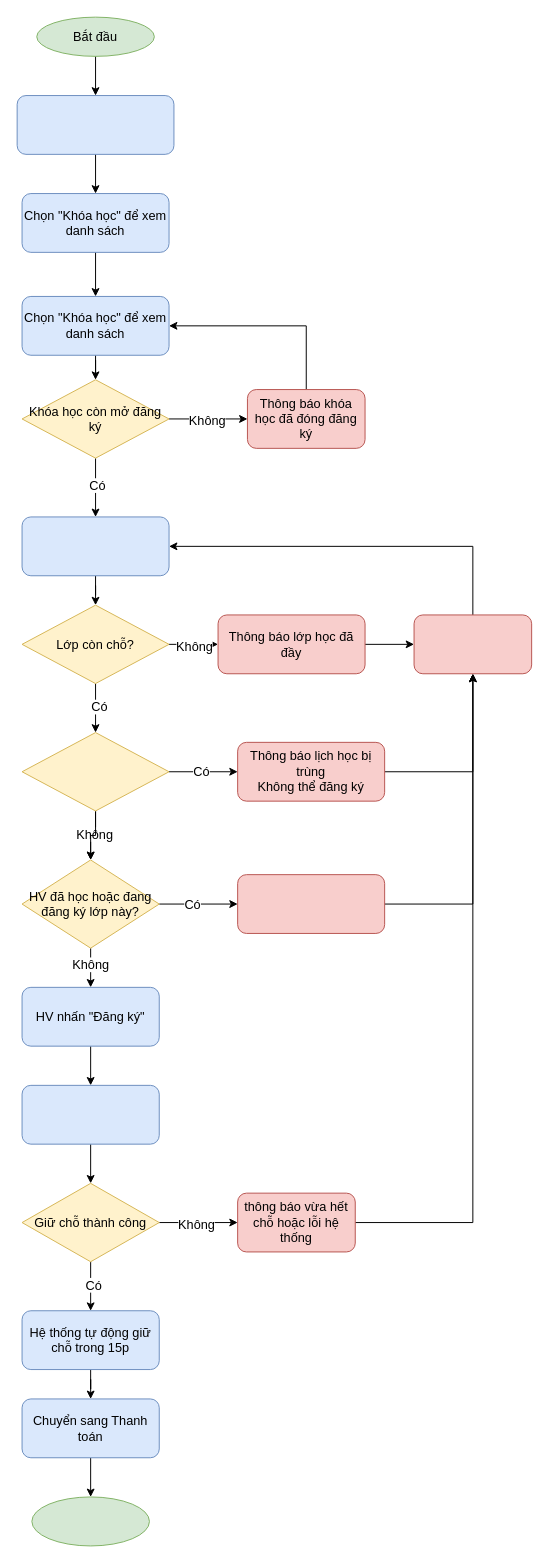
This 549x1563 diagram has some shape labels left out. Each missing label, with the box of its shape:
Chọn lớp học/ ca học phù hợp: (21, 516, 169, 576)
HV có bị trùng lịch?: (21, 732, 169, 811)
Hệ thông tạo đơn đăng ký và giữ chõ tạm thời: (21, 1084, 159, 1144)
Học viên đăng nhập vào App: (16, 95, 174, 154)
Kết thúc: (31, 1496, 149, 1546)
Thông báo học viên đã hoặc đang học lớp này: (237, 874, 385, 933)
Đề xuất lớp học khác (hoặc chọn ca khác): (413, 614, 532, 674)
